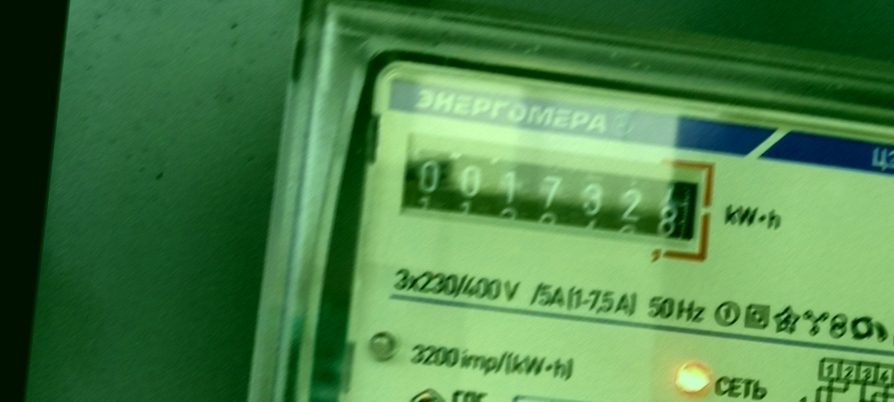0: (417, 156, 443, 196), (459, 163, 483, 199)
1: (501, 167, 520, 205)
2: (618, 186, 643, 224)
3: (579, 181, 605, 218)
7: (537, 172, 565, 212)
8: (655, 202, 679, 239)
screen: (389, 129, 720, 265)
